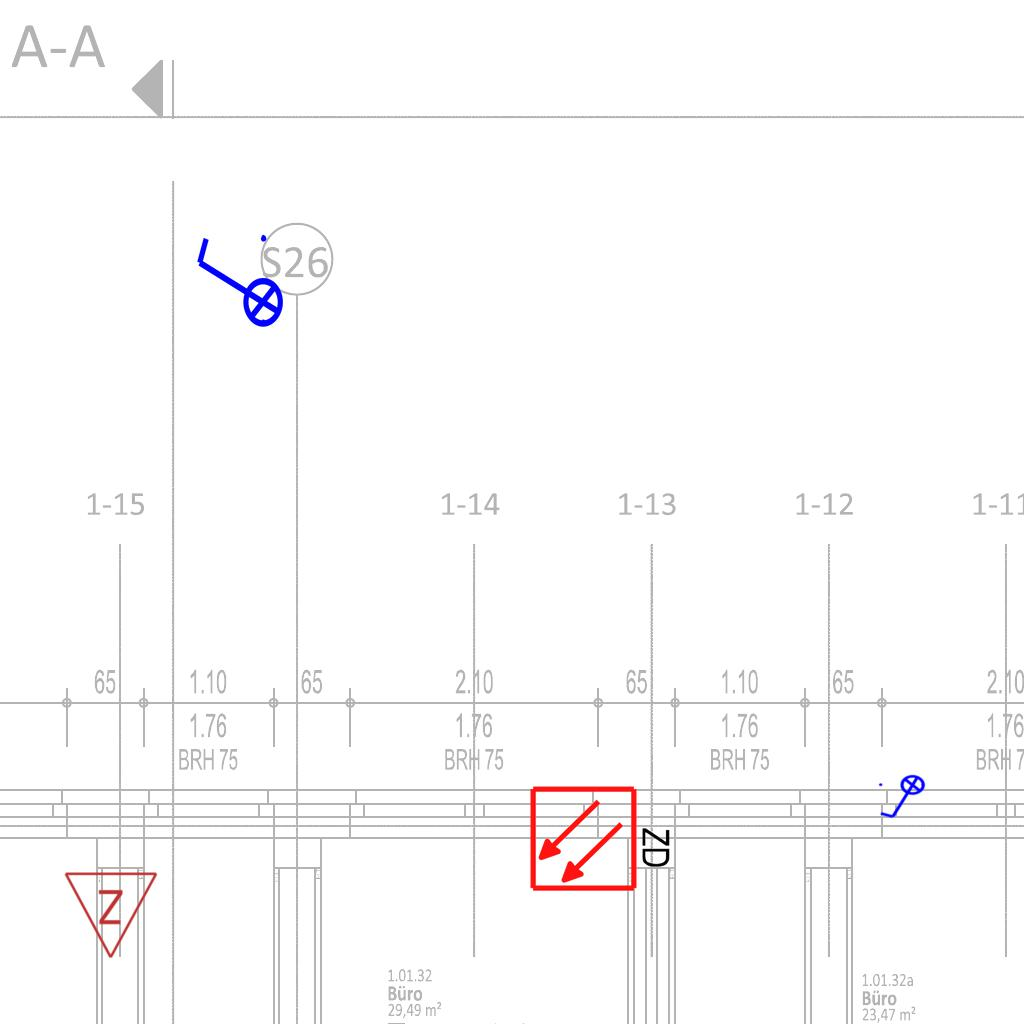Ausschalter_beleuchtet: (189, 229, 285, 341), (876, 774, 932, 822)
ZD_Melder_in_Zwischendecke_mit_Revisionsoeffnung_mind_40_x_40_cm: (528, 780, 677, 894)
Zimmersignalleuchte: (63, 865, 161, 965)
